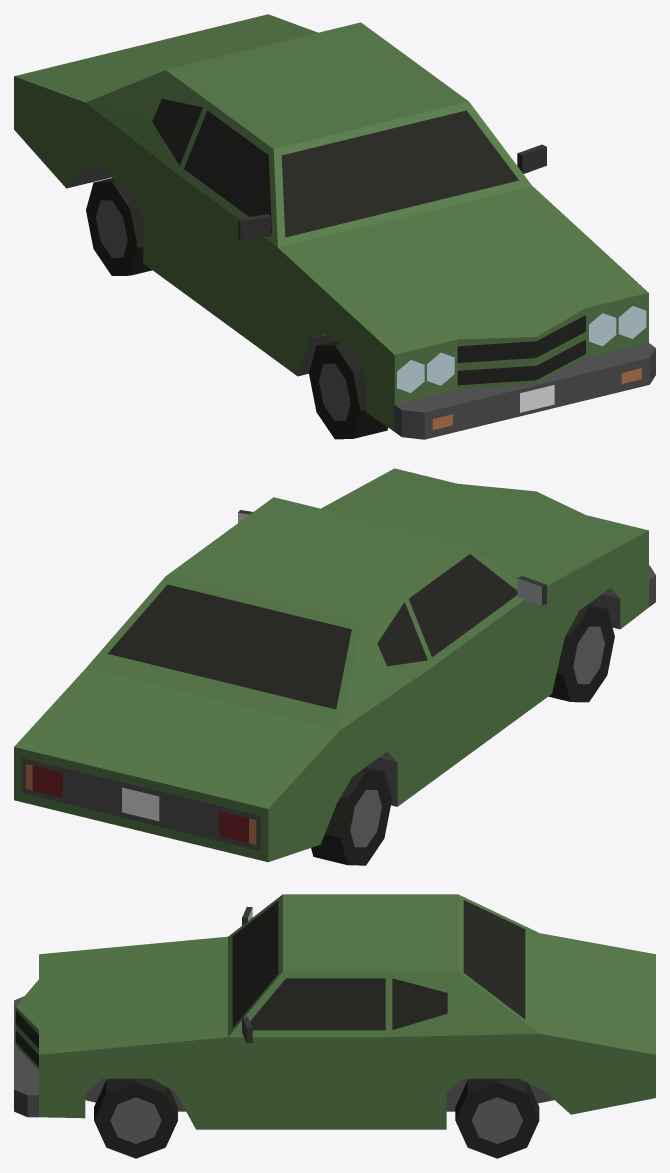
Rendered from Veh_Muscle_Car_02_Green.glb.
3 renders of one model, top to bottom at view 1: azimuth 30°, elevation 25°; view 2: azimuth 150°, elevation 25°; view 3: azimuth 270°, elevation 25°, orthographic. The views are drawn at different scales.
Visible parts, largest first — view 1: Muscle_Car_02_Green, Wheel_FR, Wheel_RR; view 2: Muscle_Car_02_Green, Wheel_RR, Wheel_FR; view 3: Muscle_Car_02_Green, Wheel_RL, Wheel_FL.
Part boxes in pixels (<box>): Muscle_Car_02_Green: <box>14,14,655,439</box>; Wheel_FR: <box>309,341,387,439</box>; Wheel_RR: <box>86,178,151,275</box>; Muscle_Car_02_Green: <box>14,468,655,862</box>; Wheel_RR: <box>311,767,391,865</box>; Wheel_FR: <box>548,604,614,702</box>; Muscle_Car_02_Green: <box>14,894,655,1129</box>; Wheel_RL: <box>455,1078,539,1158</box>; Wheel_FL: <box>94,1078,177,1158</box>.
Bounding box in the file's own units: 1.18 × 0.8001 × 2.65.
1 material, 1 textured.
